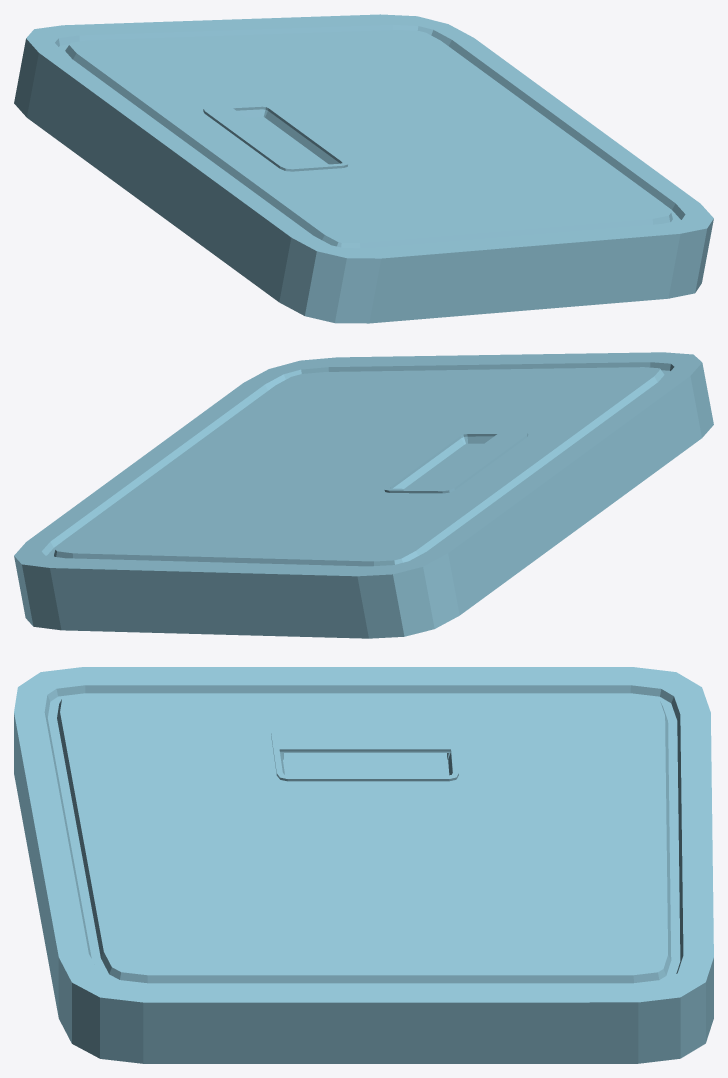
The model's file is ConsoleCabinetSideAssyOpp.FBX.
3 renders of one model, top to bottom at view 1: azimuth 30°, elevation 25°; view 2: azimuth 150°, elevation 25°; view 3: azimuth 270°, elevation 25°, orthographic. The views are drawn at different scales.
Parts seen in each view (by area): view 1: ConsoleCabinetSide001, ConsoleCabinetKnob001; view 2: ConsoleCabinetSide001, ConsoleCabinetKnob001; view 3: ConsoleCabinetSide001, ConsoleCabinetKnob001.
Boxes of the visible parts, box(x1,y1,x2,y2) form: ConsoleCabinetSide001: box(14, 14, 713, 323); ConsoleCabinetKnob001: box(203, 104, 347, 171); ConsoleCabinetSide001: box(14, 352, 713, 638); ConsoleCabinetKnob001: box(384, 431, 528, 493); ConsoleCabinetSide001: box(14, 667, 713, 1063); ConsoleCabinetKnob001: box(271, 725, 458, 781).
Bounding box in the file's own units: 0.3716 × 0.1228 × 0.4585.
